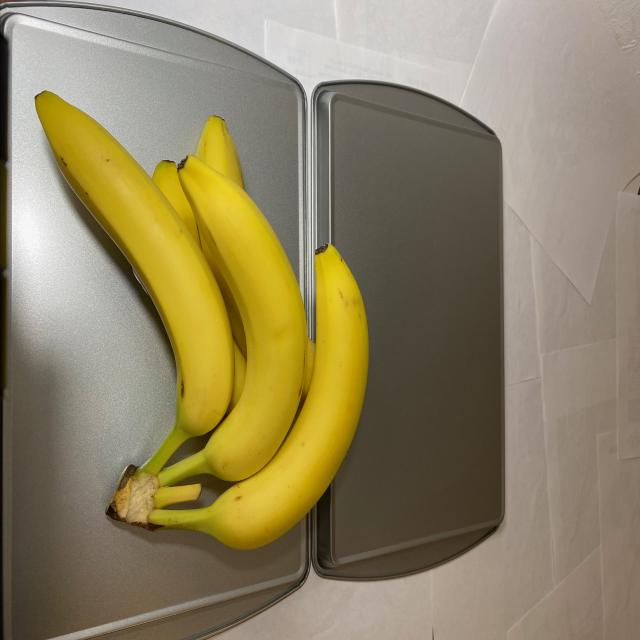banana: (24, 84, 374, 554)
